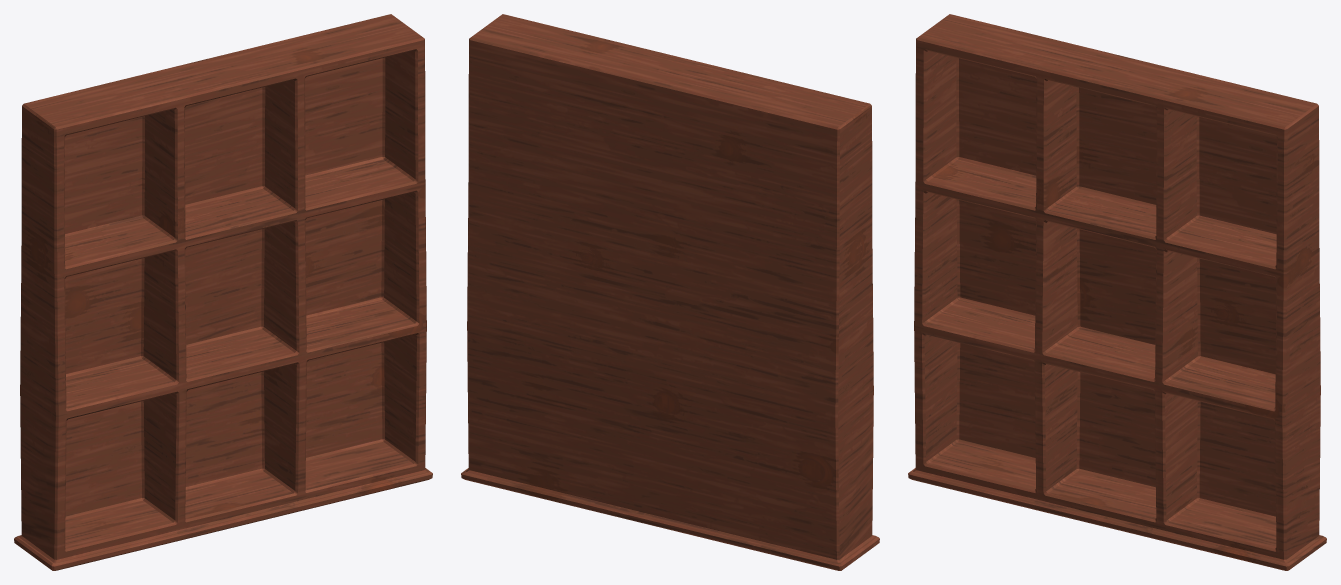
Rendered from EN_P_BookShelf.fbx.
The picture shows the model from 3 angles, left to right: view 1: azimuth 30°, elevation 25°; view 2: azimuth 150°, elevation 25°; view 3: azimuth 330°, elevation 25°; orthographic projection.
Parts seen in each view (by area): view 1: En_P_BookShelf; view 2: En_P_BookShelf; view 3: En_P_BookShelf.
Part boxes in pixels (x1,y1,x2,y2): En_P_BookShelf: (14,14,432,570); En_P_BookShelf: (461,14,879,570); En_P_BookShelf: (908,14,1326,570).
Bounding box in the file's own units: 226 × 250 × 40.74.
